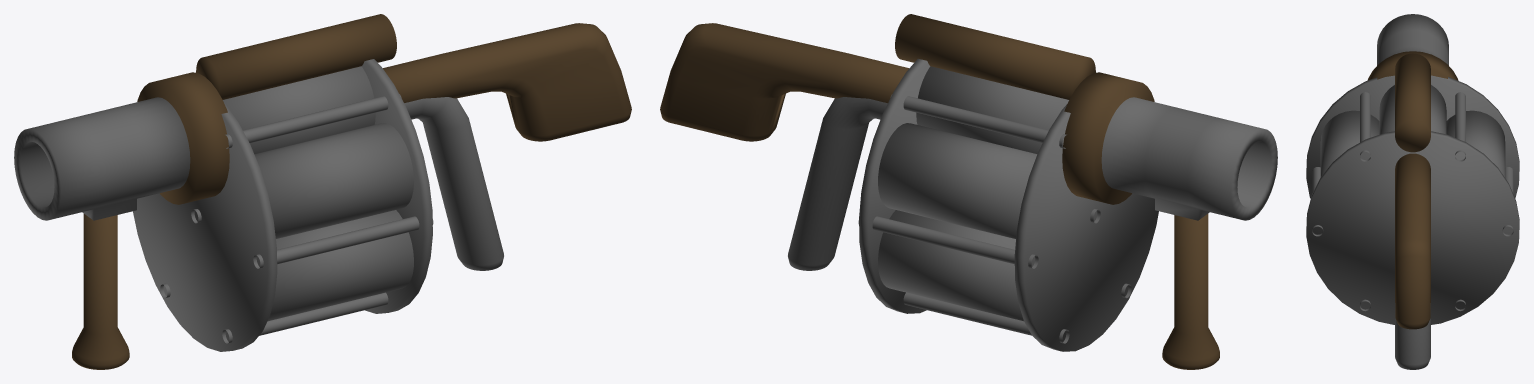
File: grenade.glb
The picture shows the model from 3 angles, left to right: view 1: azimuth 30°, elevation 25°; view 2: azimuth 150°, elevation 25°; view 3: azimuth 270°, elevation 25°; orthographic projection. The views are drawn at different scales.
Parts seen in each view (by area): view 1: Cylinder; view 2: Cylinder; view 3: Cylinder.
Boxes of the visible parts, x1,y1,x2,y2 form: Cylinder: (14,14,631,369); Cylinder: (660,14,1277,369); Cylinder: (1306,14,1519,369).
Bounding box in the file's own units: 5.4 × 2.45 × 2.2.
